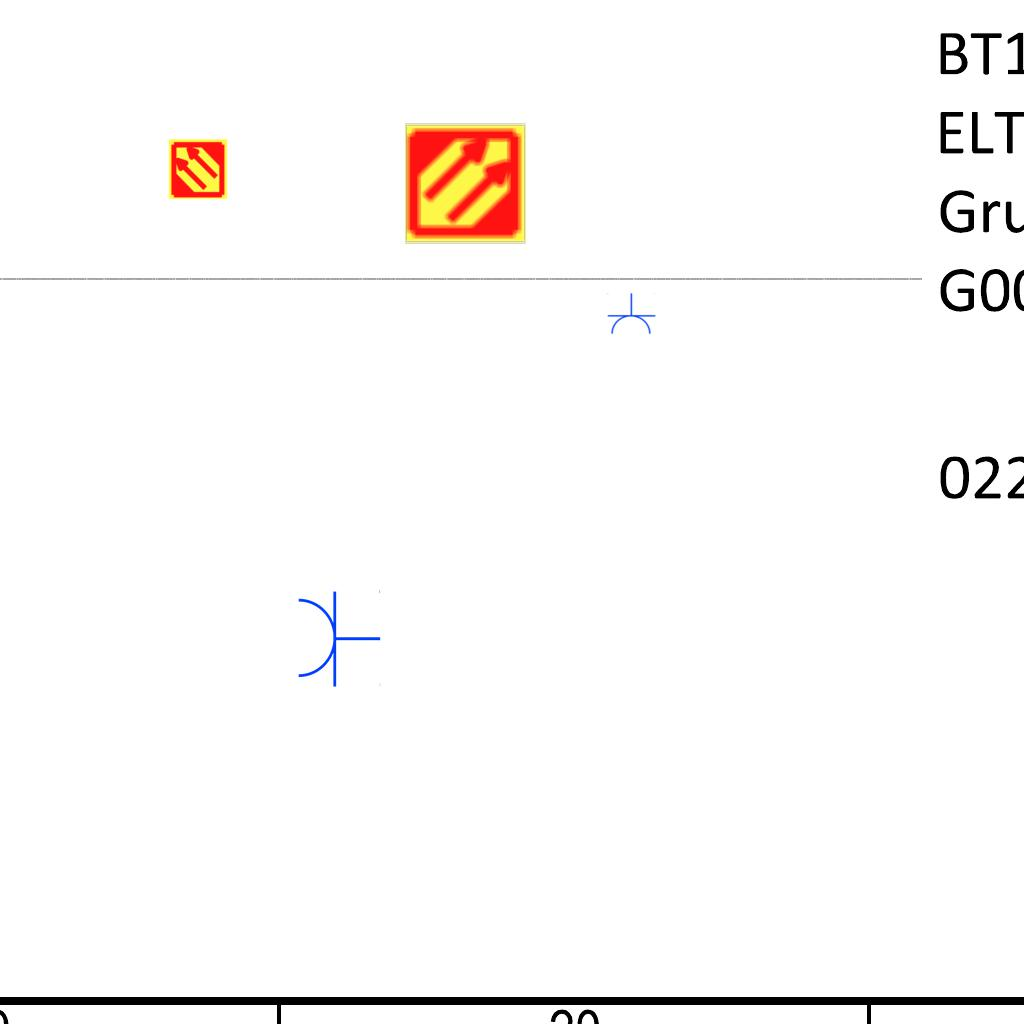ASR_Ansaugrauchmelder: (403, 121, 528, 246), (167, 138, 229, 200)
Schukosteckdose_einfach: (294, 588, 381, 688), (606, 293, 656, 336)
